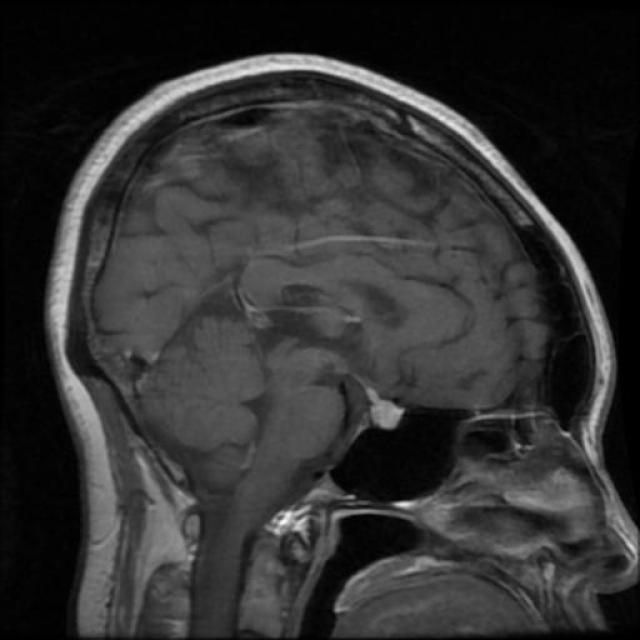pituitary: (352, 371, 414, 441)
